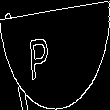P_N: (43, 28, 67, 82)
